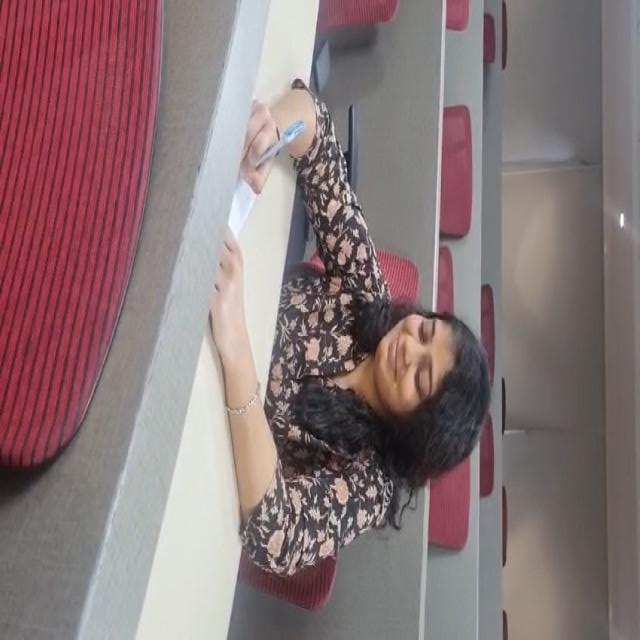non-cheating: (135, 121, 588, 461)
